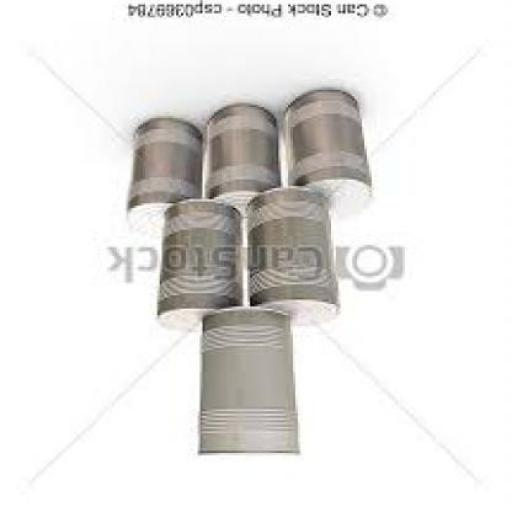metal: (200, 311, 302, 457), (250, 190, 341, 324), (283, 94, 377, 215), (159, 202, 243, 332), (207, 106, 284, 218), (129, 120, 205, 223)
